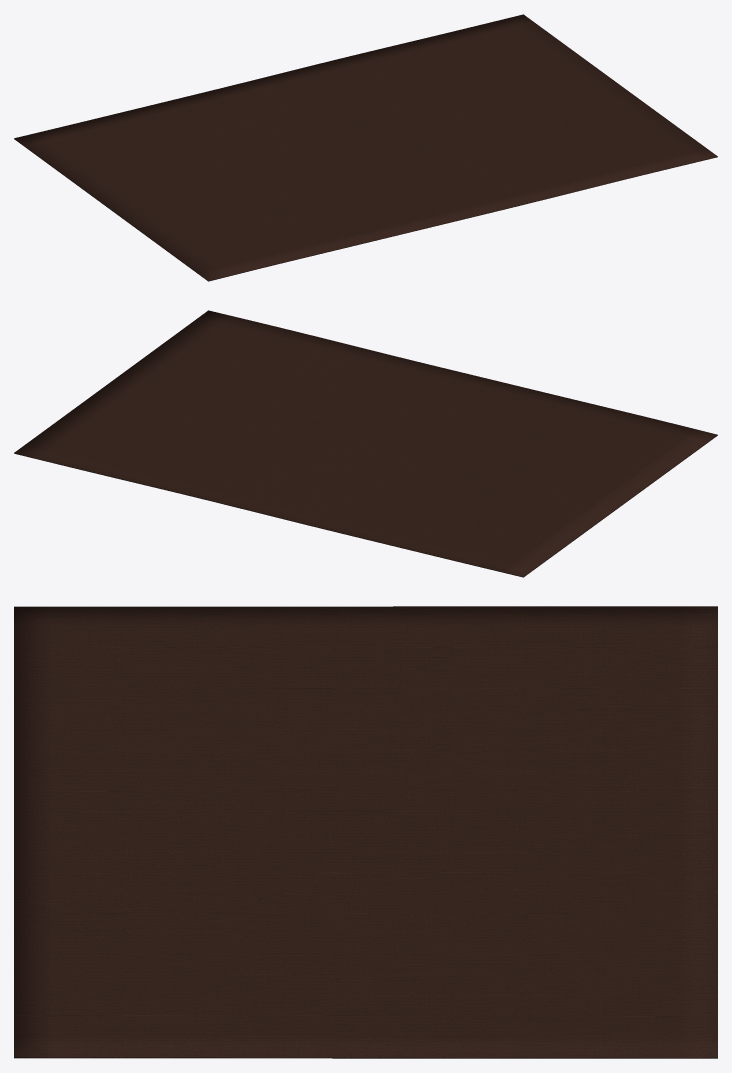
File: traditional.throw.gltf
The picture shows the model from 3 angles, top to bottom: view 1: azimuth 30°, elevation 25°; view 2: azimuth 150°, elevation 25°; view 3: azimuth 270°, elevation 25°; orthographic projection. The views are drawn at different scales.
Parts seen in each view (by area): view 1: traditional.throw.folded-linen; view 2: traditional.throw.folded-linen; view 3: traditional.throw.folded-linen.
Part boxes in pixels (x1,y1,x2,y2): traditional.throw.folded-linen: [14, 14, 717, 281]; traditional.throw.folded-linen: [14, 310, 717, 577]; traditional.throw.folded-linen: [14, 606, 717, 1058].
Bounding box in the file's own units: 1.15 × 0.00292 × 0.76.
1 material, 1 textured.
